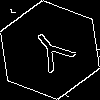Y: (25, 25, 83, 82)
